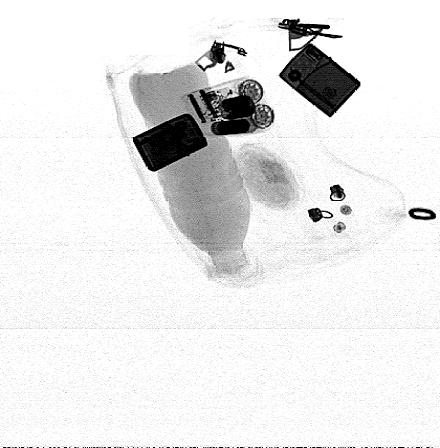Lighter: (277, 43, 362, 119), (130, 112, 209, 173)
